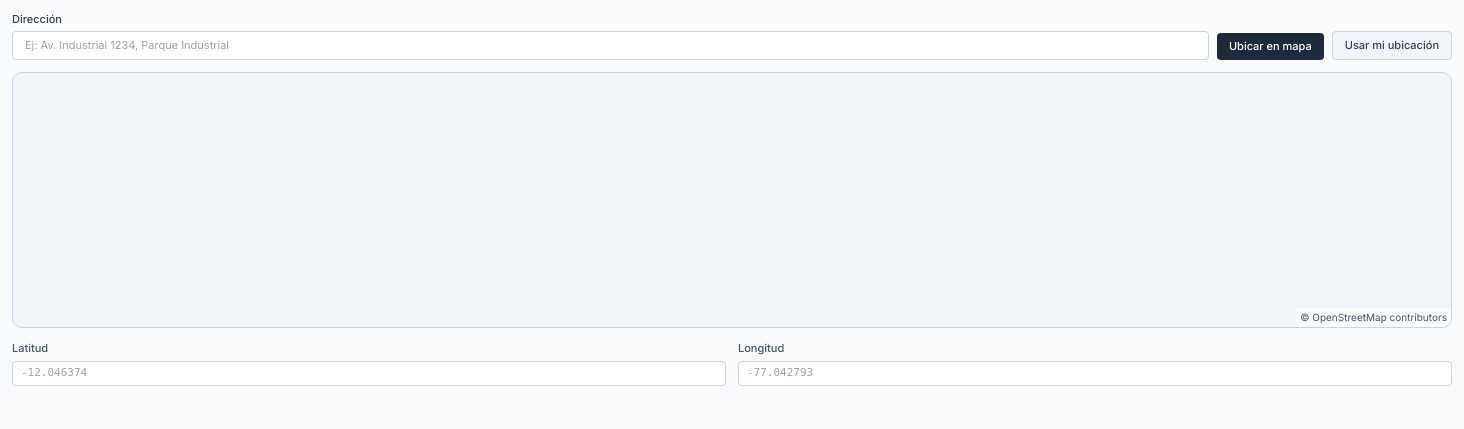
Test: F005.4 · Geolocalización de Sedes — Full E2E & Component Test Suite › Tier 2: Boundary & Corner Cases › T2-INPUT-02: Entering longitude < -180 in manual input displays inline validation error
This screenshot has width=1464, height=429.
In the field labelled "Longitud": [1095, 374] box [738,361,1452,386], type "-195.5"
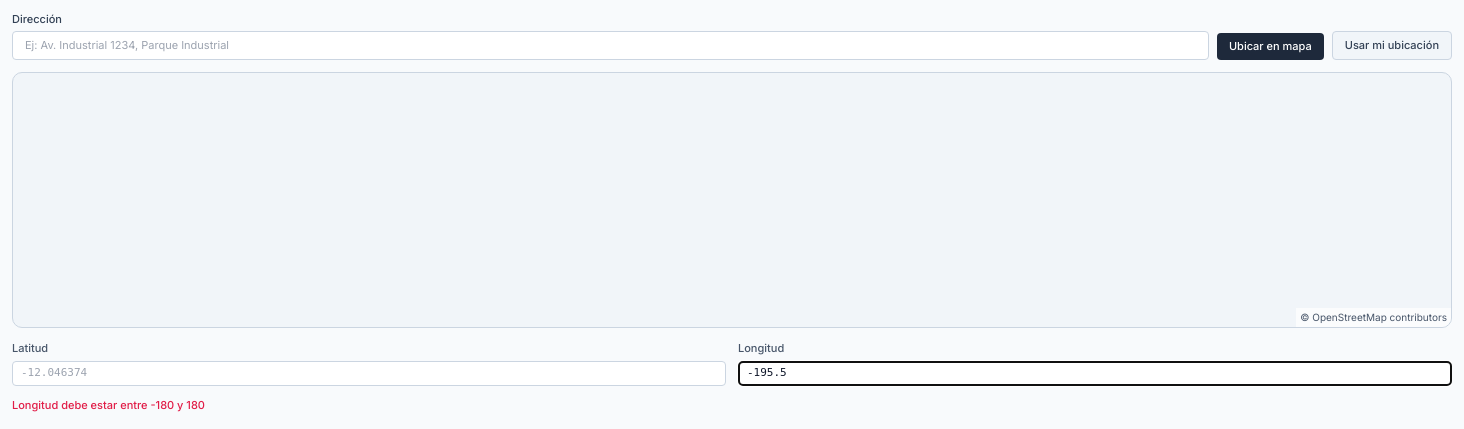
Check: the message reads "Longitud debe estar entre -180 y 180", box [12,398,205,412]
